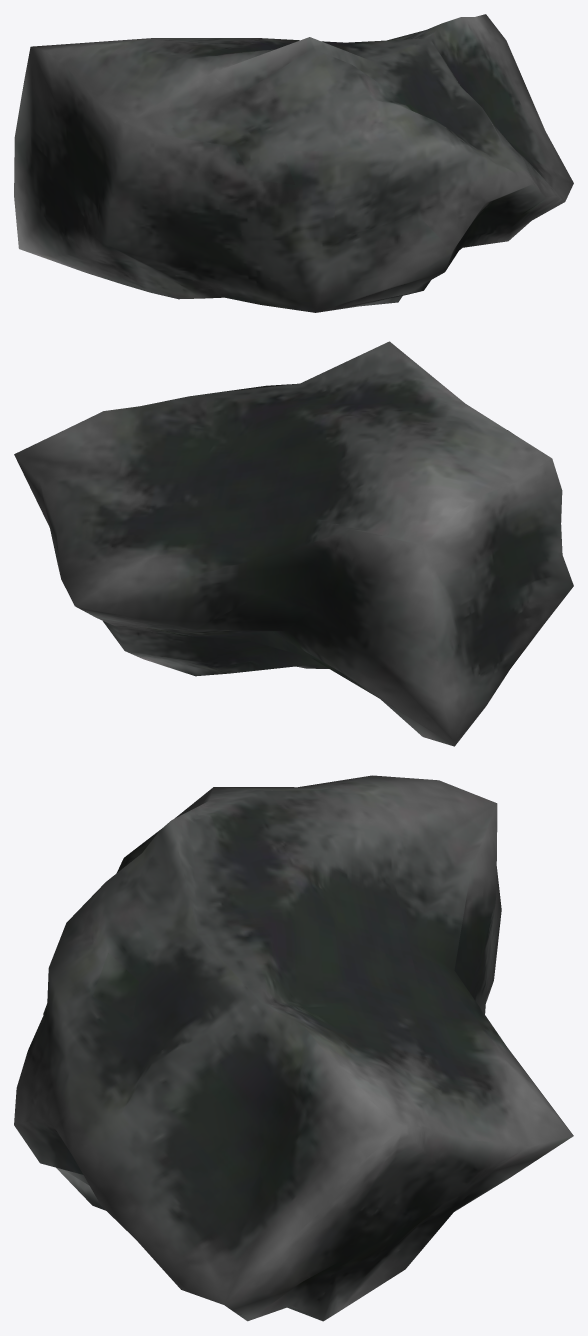
File: rockDemo_s_02.glb
3 views of the same model, one above another, from view 1: azimuth 30°, elevation 25°; view 2: azimuth 150°, elevation 25°; view 3: azimuth 270°, elevation 25° (orthographic). The views are drawn at different scales.
Parts seen in each view (by area): view 1: Rock_s_02; view 2: Rock_s_02; view 3: Rock_s_02.
Boxes of the visible parts, bbox=[...] form: Rock_s_02: bbox=[14, 14, 573, 312]; Rock_s_02: bbox=[14, 341, 573, 746]; Rock_s_02: bbox=[14, 775, 573, 1321].
Size of the model in its own units: 0.248 by 0.1517 by 0.1939.
Materials: 1 (1 with a texture image).
